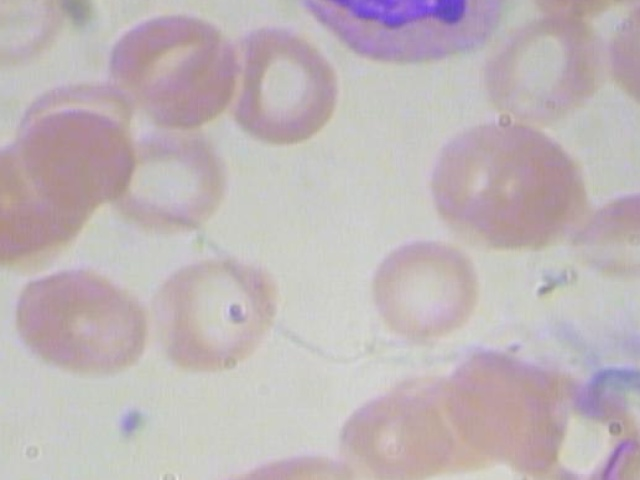Platelets: (110, 403, 160, 445)
RBC: (426, 116, 595, 256), (142, 246, 283, 381), (11, 259, 155, 382), (206, 26, 340, 143), (101, 9, 234, 126), (104, 120, 237, 237), (478, 9, 611, 126), (354, 234, 482, 349), (333, 379, 457, 480), (564, 169, 640, 285), (590, 0, 640, 117), (0, 0, 76, 73)
WBC: (256, 0, 524, 65)
